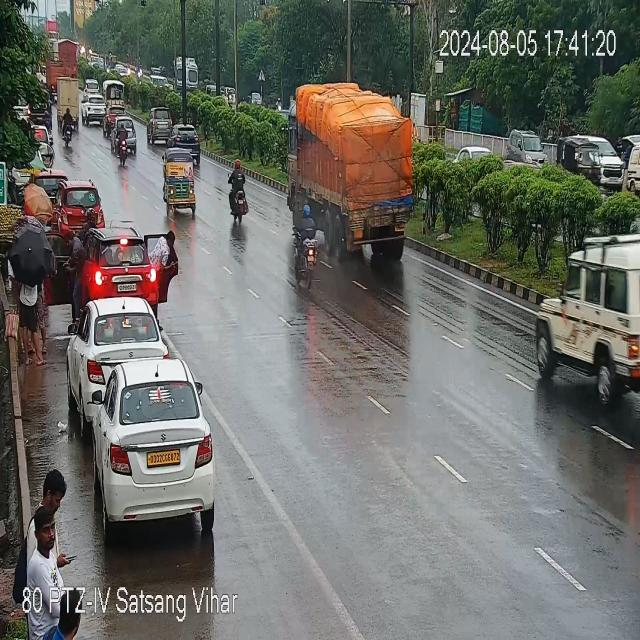2-wheelers: (292, 200, 321, 286), (222, 162, 254, 225), (62, 110, 76, 143), (117, 124, 128, 162), (226, 86, 233, 106)
auto: (555, 135, 603, 187), (165, 153, 202, 213), (104, 82, 128, 110)
car: (76, 355, 220, 531), (534, 228, 636, 394), (68, 299, 165, 402), (77, 228, 165, 301), (56, 184, 104, 233), (511, 128, 545, 166), (602, 137, 624, 191), (145, 109, 175, 144), (168, 124, 203, 150), (84, 97, 113, 124), (458, 144, 487, 160), (128, 117, 136, 154), (86, 78, 100, 94)
pedestrian: (30, 518, 76, 636), (16, 270, 48, 363), (38, 464, 68, 513), (64, 226, 84, 279), (24, 173, 46, 221), (151, 229, 176, 260)
truck: (281, 81, 420, 260), (46, 39, 81, 83), (168, 58, 202, 92), (55, 76, 82, 112)
